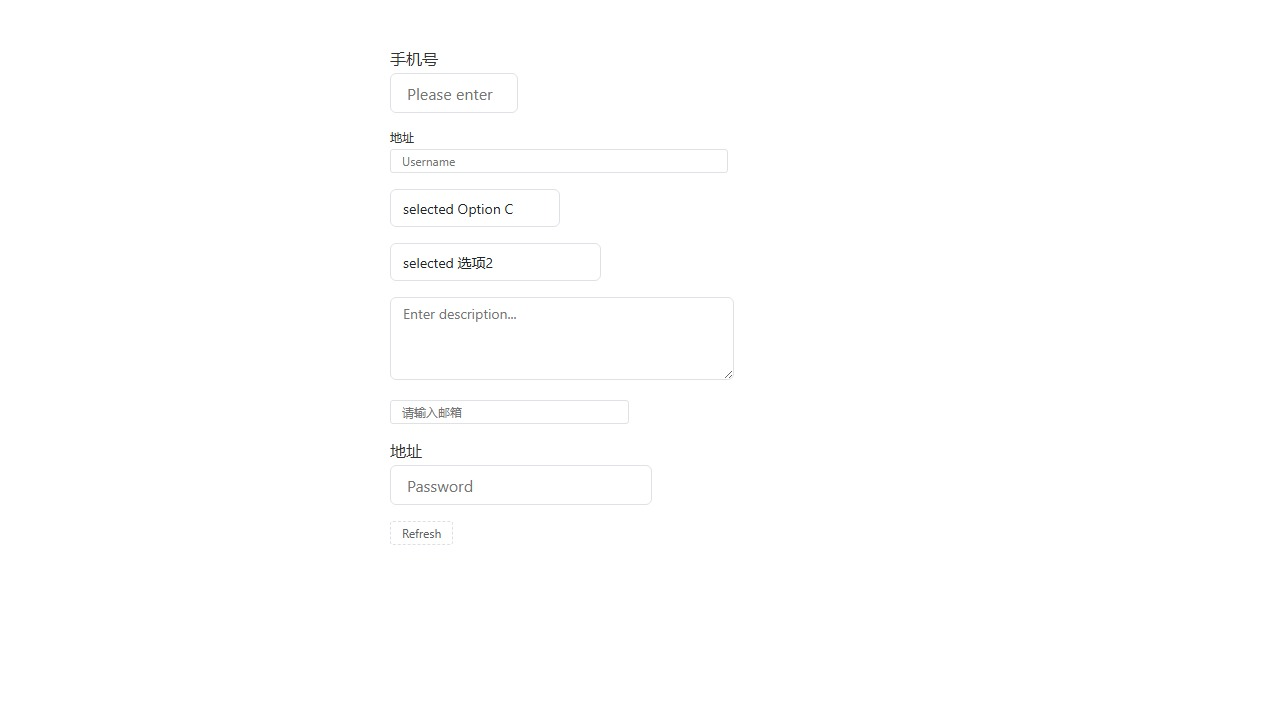button: (390, 521, 453, 545)
input: (390, 465, 652, 505), (390, 149, 728, 173), (390, 400, 629, 424), (390, 73, 518, 113)
select: (390, 243, 601, 281), (390, 189, 560, 227)
textarea: (390, 297, 734, 380)
